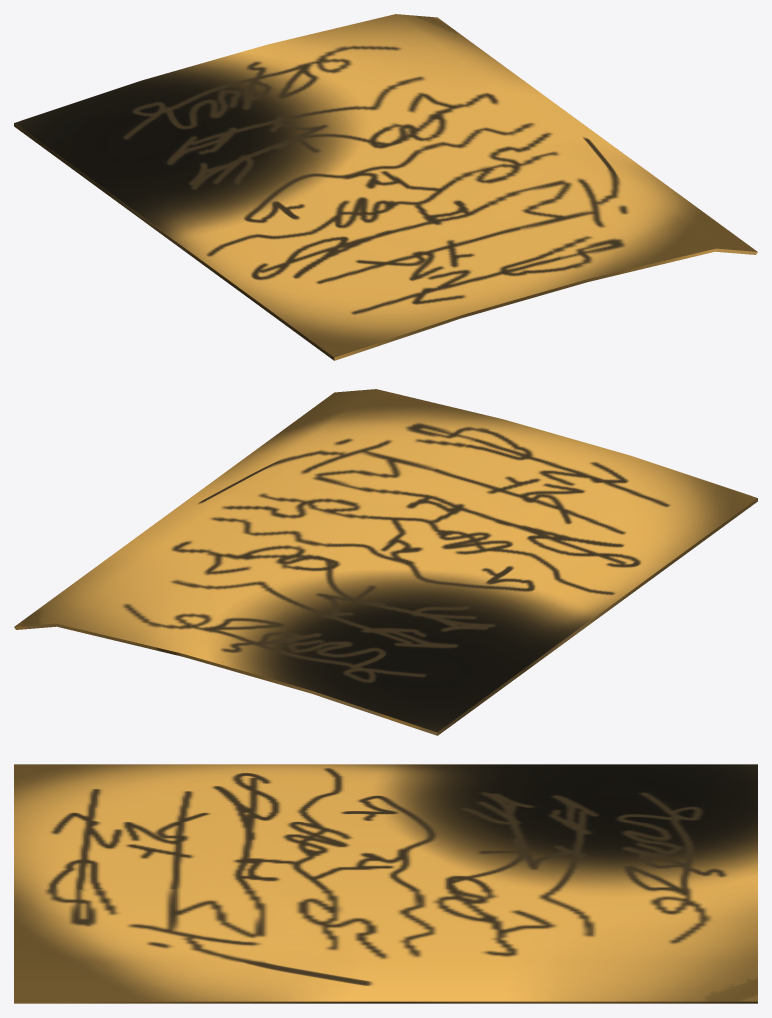
Rendered from Page0.fbx.
3 renders of one model, top to bottom at view 1: azimuth 30°, elevation 25°; view 2: azimuth 150°, elevation 25°; view 3: azimuth 270°, elevation 25°, orthographic. The views are drawn at different scales.
Parts seen in each view (by area): view 1: Page0; view 2: Page0; view 3: Page0.
Boxes of the visible parts, x1,y1,x2,y2 form: Page0: (14,14,757,360); Page0: (14,389,757,735); Page0: (14,764,757,1003).
Size of the model in its own units: 18.33 by 0.828 by 24.01.
